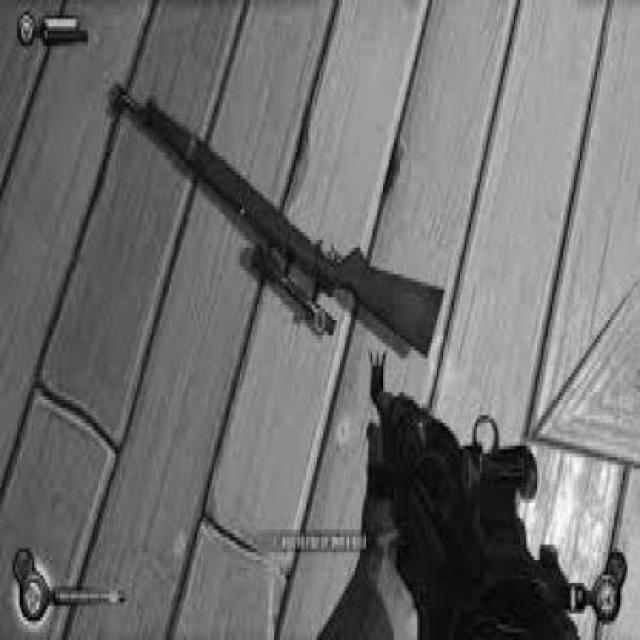weapon: (111, 87, 447, 360), (369, 351, 591, 640)
